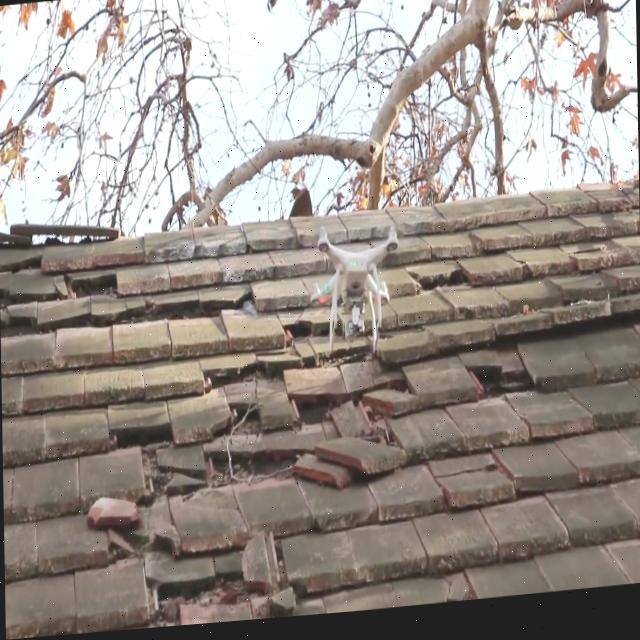drone: (304, 219, 402, 372)
